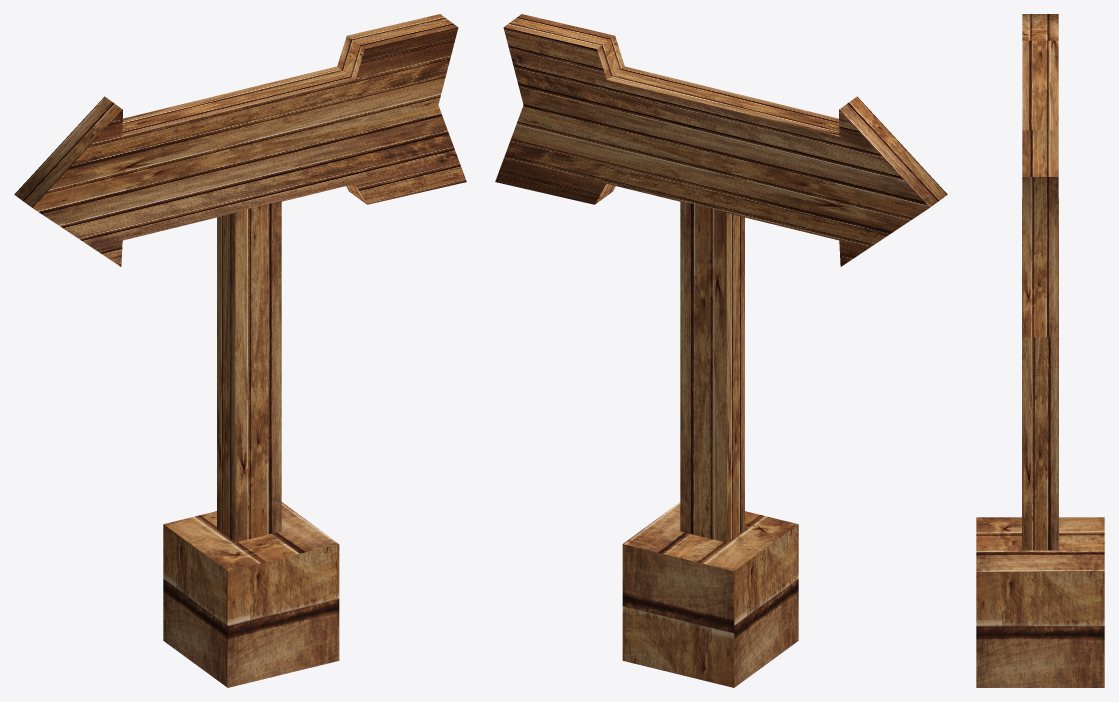
File: Arrow.fbx
The picture shows the model from 3 angles, left to right: view 1: azimuth 30°, elevation 25°; view 2: azimuth 150°, elevation 25°; view 3: azimuth 270°, elevation 25°; orthographic projection.
Parts seen in each view (by area): view 1: pCube1, pCube3, pCube2; view 2: pCube1, pCube3, pCube2; view 3: pCube3, pCube1, pCube2.
Part boxes in pixels (left/top/right/bottom): pCube1: left=14, top=14, right=466, bottom=266; pCube3: left=163, top=502, right=339, bottom=687; pCube2: left=217, top=200, right=281, bottom=542; pCube1: left=495, top=14, right=947, bottom=266; pCube3: left=622, top=502, right=798, bottom=687; pCube2: left=680, top=200, right=744, bottom=542; pCube3: left=976, top=517, right=1104, bottom=687; pCube1: left=1022, top=14, right=1058, bottom=337; pCube2: left=1022, top=198, right=1058, bottom=550.
Size of the model in its own units: 3.9 by 4.99 by 1.
Materials: 1 (1 with a texture image).
